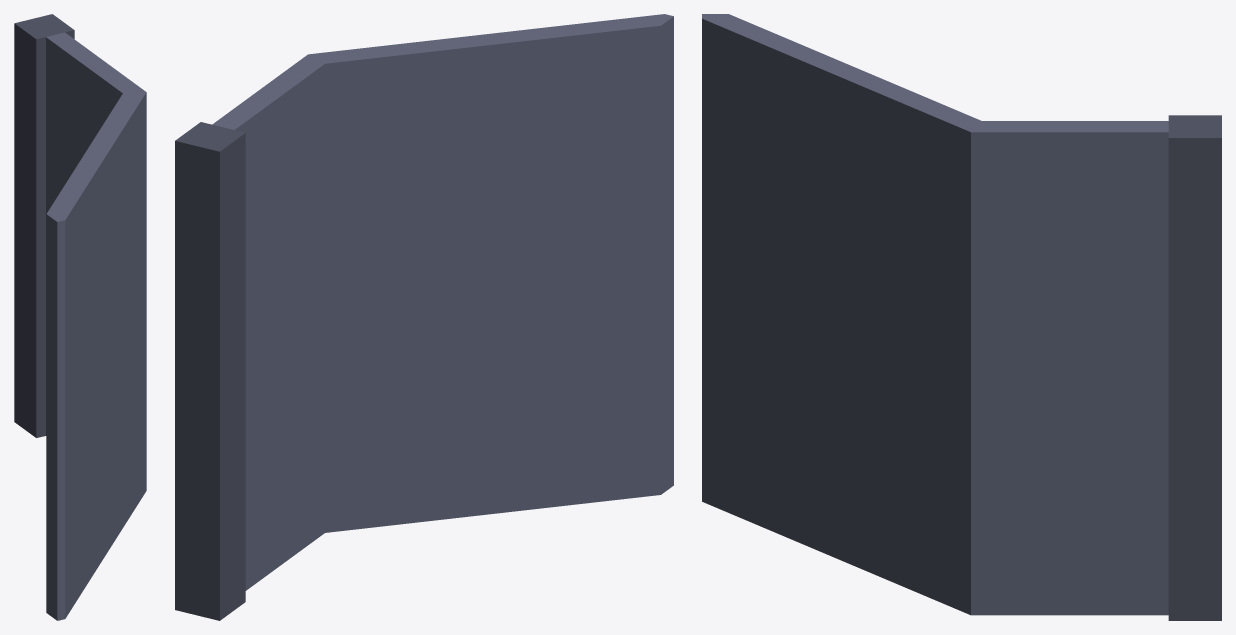
File: wall-wood-corner-diagonal-half.glb
3 renders of one model, left to right at view 1: azimuth 30°, elevation 25°; view 2: azimuth 150°, elevation 25°; view 3: azimuth 270°, elevation 25°, orthographic. The views are drawn at different scales.
Visible parts, largest first — view 1: wall-wood-corner-diagonal-half; view 2: wall-wood-corner-diagonal-half; view 3: wall-wood-corner-diagonal-half.
Boxes of the visible parts, x1=… form: wall-wood-corner-diagonal-half: x1=14, y1=14, x2=146, y2=620; wall-wood-corner-diagonal-half: x1=175, y1=14, x2=673, y2=620; wall-wood-corner-diagonal-half: x1=702, y1=14, x2=1221, y2=620.
Bounding box in the file's own units: 0.55 × 1 × 0.975.
1 material, 1 textured.
